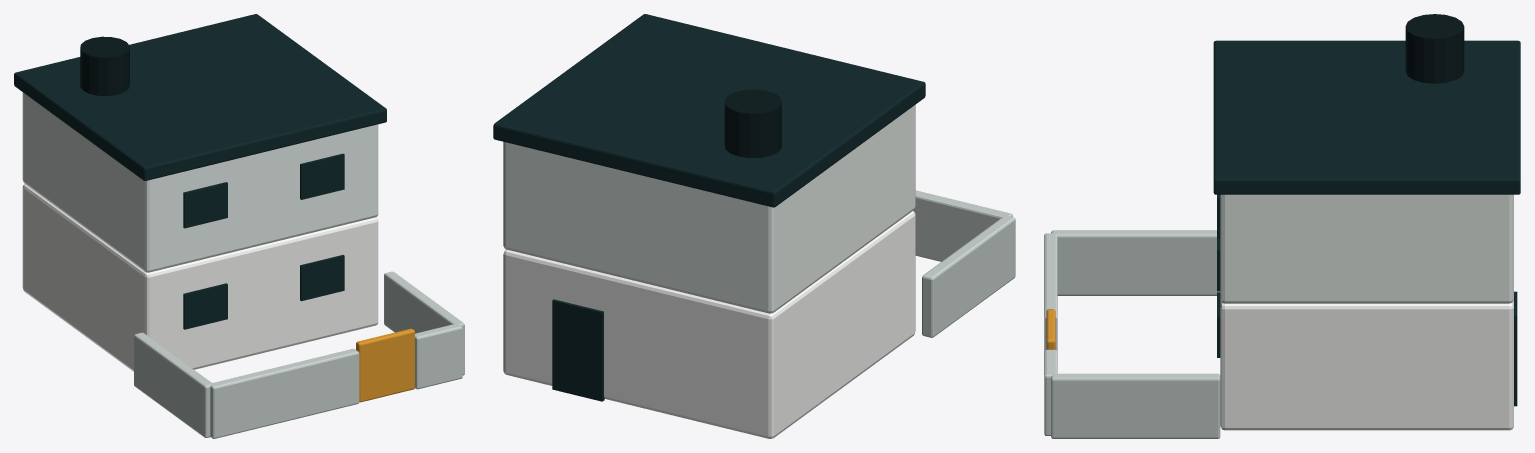
Rendered from house.glb.
3 renders of one model, left to right at view 1: azimuth 30°, elevation 25°; view 2: azimuth 150°, elevation 25°; view 3: azimuth 270°, elevation 25°, orthographic. The views are drawn at different scales.
Parts seen in each view (by area): view 1: house_ground_floor, house_parapet, house_upper_floor, house_wall_back_a, house_wall_side-0.75, house_back_gate, house_wall_side+0.75, house_water_tank, house_wall_back_b, house_window+0.350.94, house_window-0.350.36, house_window-0.350.94 (+1 smaller); view 2: house_ground_floor, house_parapet, house_upper_floor, house_wall_side-0.75, house_front_door, house_wall_back_a, house_water_tank; view 3: house_parapet, house_ground_floor, house_upper_floor, house_wall_side+0.75, house_wall_side-0.75, house_water_tank, house_wall_back_a, house_wall_back_b, house_front_door.
Boxes of the visible parts, bbox=[...] form: house_ground_floor: bbox=[22, 184, 378, 371]; house_parapet: bbox=[14, 14, 386, 180]; house_upper_floor: bbox=[22, 92, 378, 272]; house_wall_back_a: bbox=[210, 348, 359, 438]; house_wall_side-0.75: bbox=[134, 332, 211, 437]; house_back_gate: bbox=[356, 328, 414, 402]; house_wall_side+0.75: bbox=[384, 271, 464, 375]; house_water_tank: bbox=[80, 36, 129, 95]; house_wall_back_b: bbox=[415, 324, 462, 389]; house_window+0.350.94: bbox=[300, 153, 344, 199]; house_window-0.350.36: bbox=[183, 283, 227, 329]; house_window-0.350.94: bbox=[183, 182, 227, 228]; house_ground_floor: bbox=[503, 211, 915, 438]; house_parapet: bbox=[493, 14, 925, 207]; house_upper_floor: bbox=[503, 105, 915, 313]; house_wall_side-0.75: bbox=[922, 216, 1015, 337]; house_front_door: bbox=[552, 299, 604, 401]; house_wall_back_a: bbox=[913, 190, 1012, 261]; house_water_tank: bbox=[724, 89, 781, 158]; house_parapet: bbox=[1213, 40, 1520, 194]; house_ground_floor: bbox=[1220, 300, 1513, 430]; house_upper_floor: bbox=[1220, 194, 1513, 303]; house_wall_side+0.75: bbox=[1051, 373, 1220, 438]; house_wall_side-0.75: bbox=[1051, 230, 1220, 295]; house_water_tank: bbox=[1405, 14, 1464, 83]; house_wall_back_a: bbox=[1044, 233, 1057, 350]; house_wall_back_b: bbox=[1044, 349, 1057, 435]; house_front_door: bbox=[1514, 291, 1517, 406].
Size of the model in its own units: 1.56 by 1.47 by 2.11.
